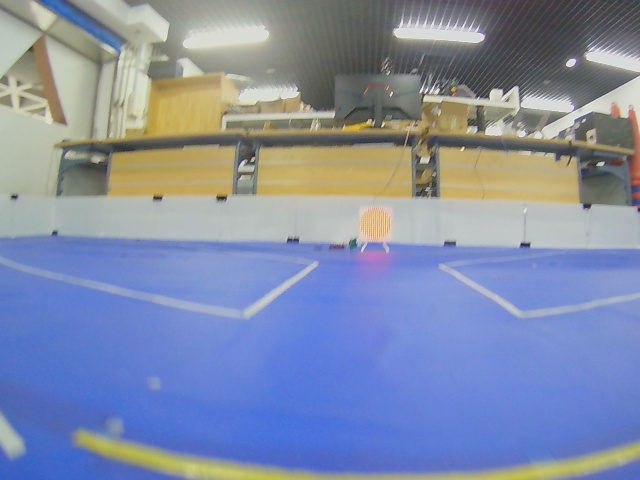red: (360, 205, 393, 242)
